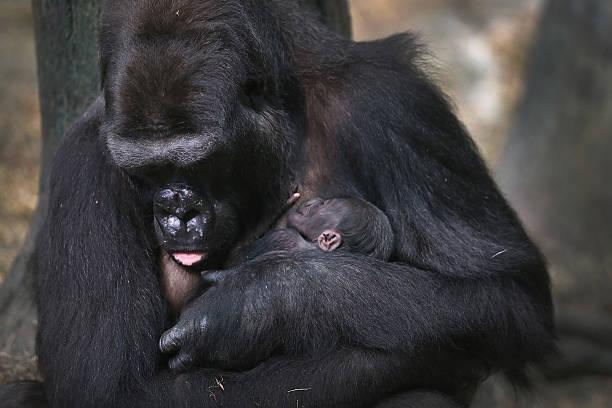gorille_Autres: (20, 0, 568, 408)
